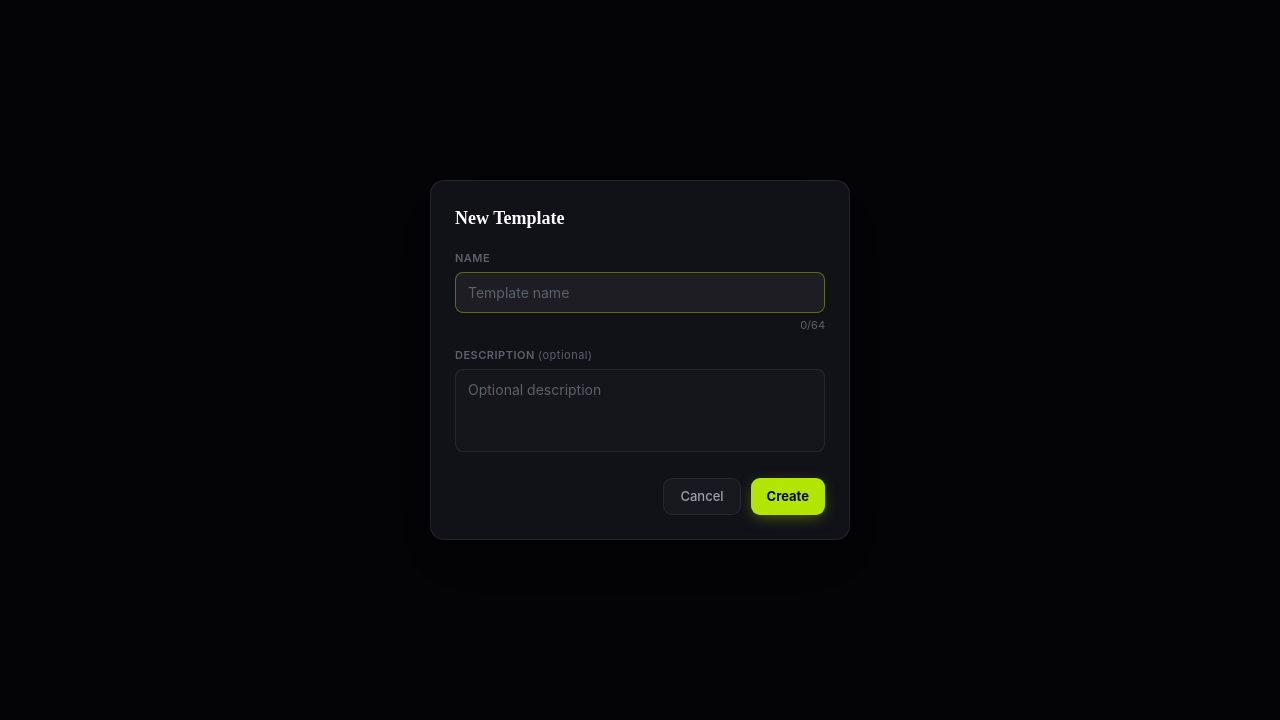
Scenario: HarnessFormModal › resets name error when user types
// Trigger validation error
Click the button "Create" at (788, 496), box [751,478,825,515]
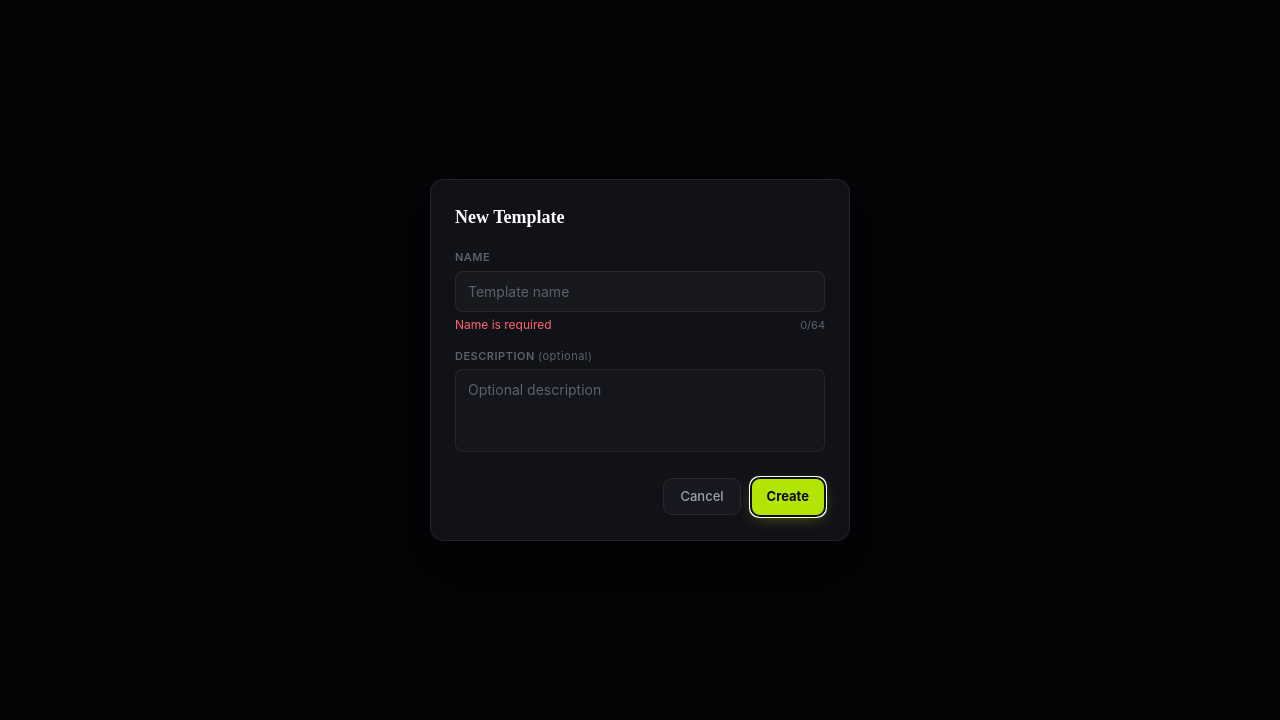
Now the text "Name is required" is shown, box [455,316,552,334]
// Type something — error should clear
Type "A" into the field with placeholder "Template name" at (640, 291), box [455,271,825,312]
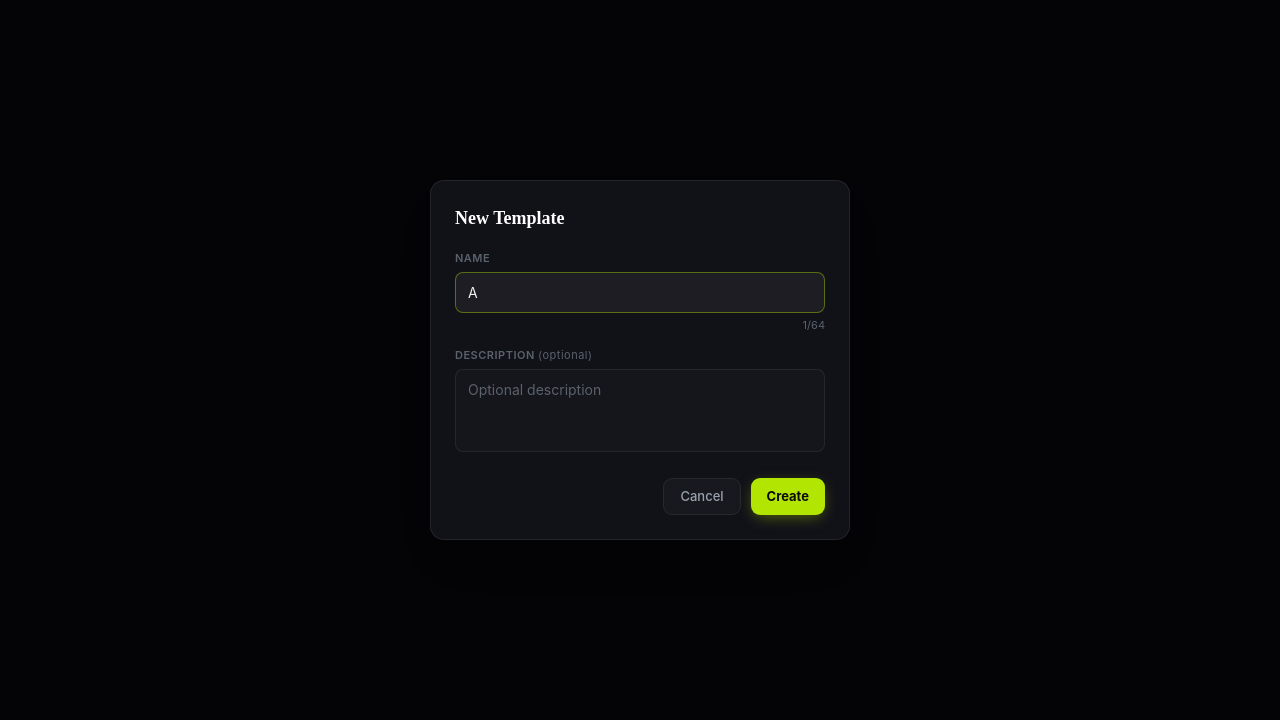
Now the text "Name is required" is gone
